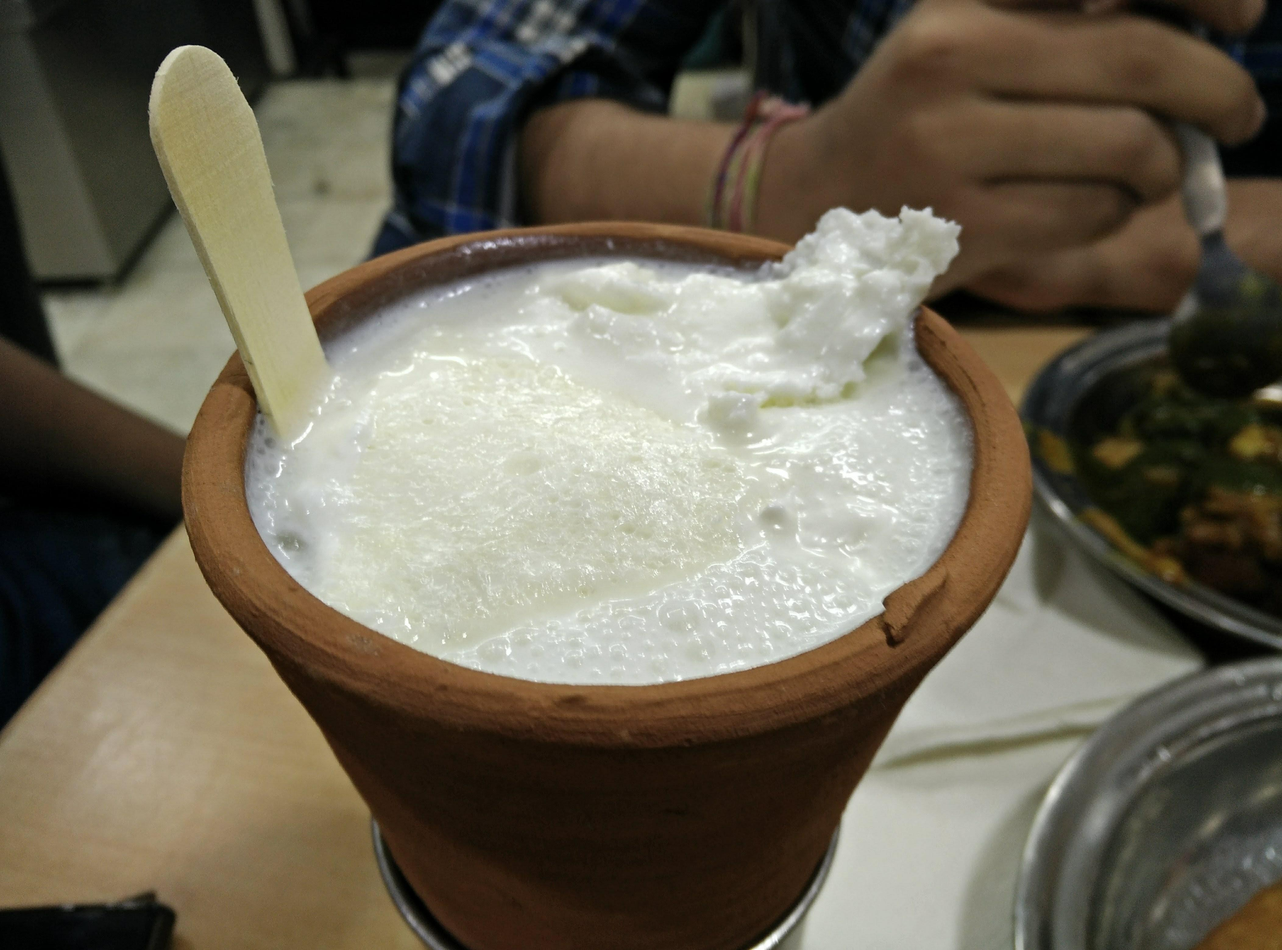Lassi: (244, 204, 976, 686)
